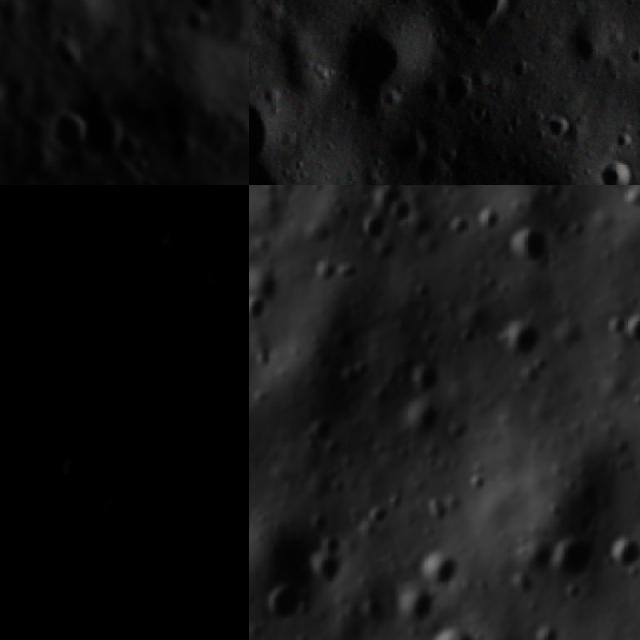crater: (330, 11, 420, 126), (445, 0, 518, 40), (549, 531, 597, 587), (168, 258, 227, 303), (435, 66, 486, 117), (84, 105, 128, 164), (261, 576, 310, 628), (44, 104, 89, 160), (31, 438, 88, 481), (495, 315, 539, 363), (600, 530, 640, 581), (392, 585, 436, 630), (508, 222, 552, 266), (90, 336, 133, 380), (419, 548, 466, 588), (396, 401, 441, 442), (300, 553, 349, 590), (198, 394, 240, 436), (585, 151, 636, 185), (407, 357, 445, 397), (544, 107, 577, 148), (54, 190, 89, 228), (354, 210, 392, 245), (383, 192, 419, 226), (471, 200, 503, 234), (316, 530, 352, 559), (502, 574, 537, 600), (598, 311, 631, 338), (249, 291, 271, 331), (420, 626, 481, 640), (314, 185, 391, 196), (362, 501, 393, 528), (527, 618, 564, 640), (233, 589, 249, 637), (623, 305, 640, 349), (0, 310, 23, 339), (629, 486, 640, 533)
